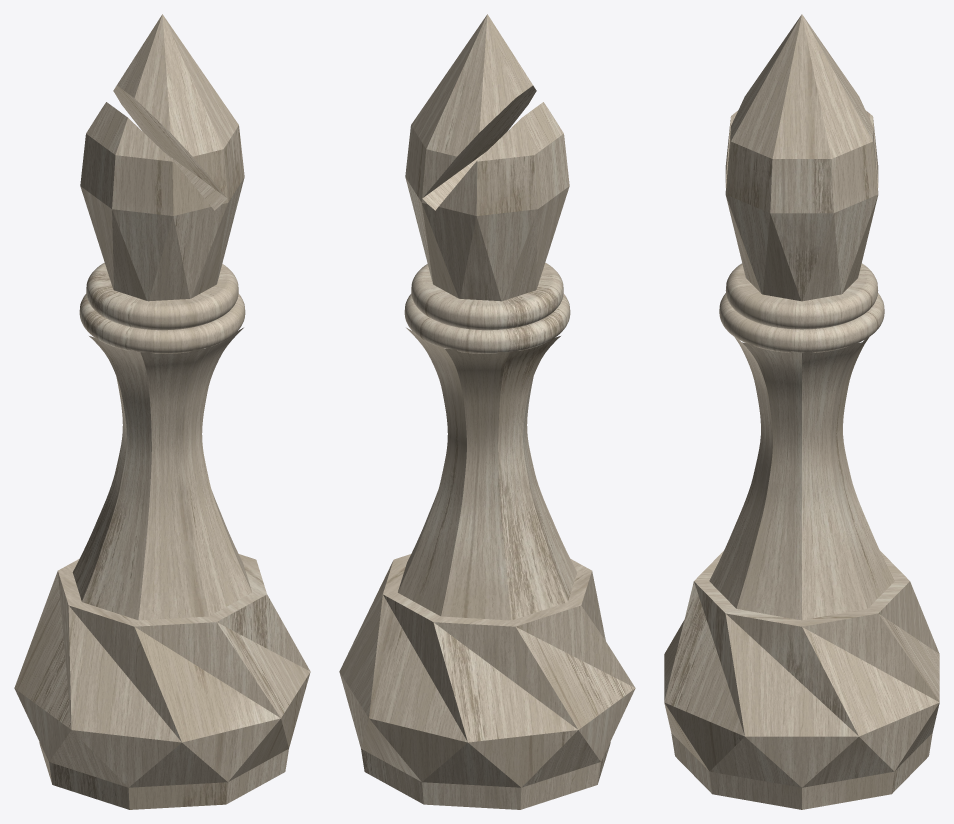
Rendered from bishop-white-hd.glb.
The picture shows the model from 3 angles, left to right: view 1: azimuth 30°, elevation 25°; view 2: azimuth 150°, elevation 25°; view 3: azimuth 270°, elevation 25°; orthographic projection.
Visible parts, largest first — view 1: Lithoxyl_Bishop_Ivory; view 2: Lithoxyl_Bishop_Ivory; view 3: Lithoxyl_Bishop_Ivory.
Boxes of the visible parts, x1,y1,x2,y2 form: Lithoxyl_Bishop_Ivory: (14,14,310,809); Lithoxyl_Bishop_Ivory: (339,14,635,809); Lithoxyl_Bishop_Ivory: (664,14,939,809).
Bounding box in the file's own units: 0.4372 × 1.3 × 0.4372.
1 material, 1 textured.
